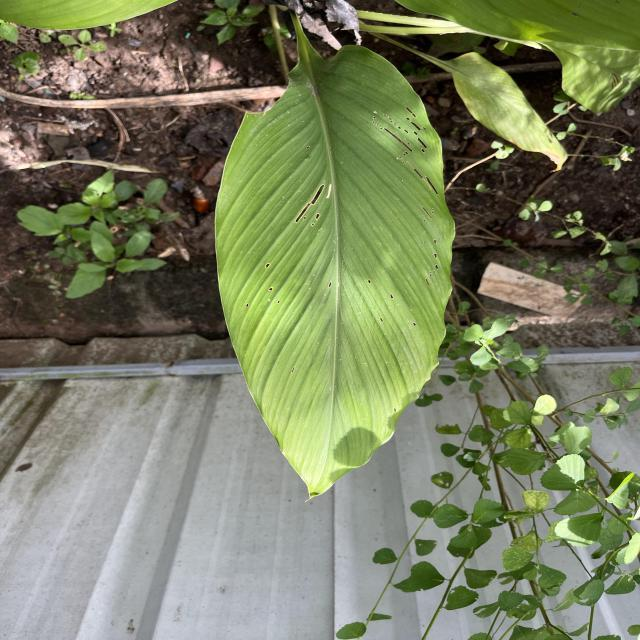Curcuma longa: (209, 41, 459, 506)
